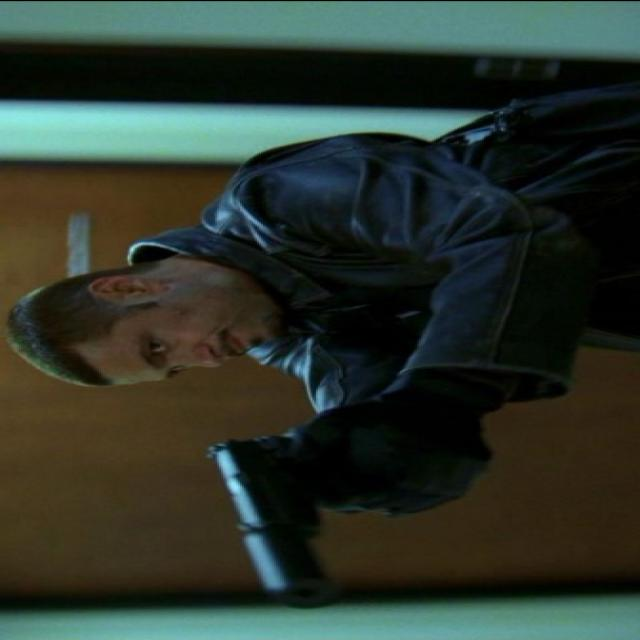weapons: (188, 418, 464, 612)
